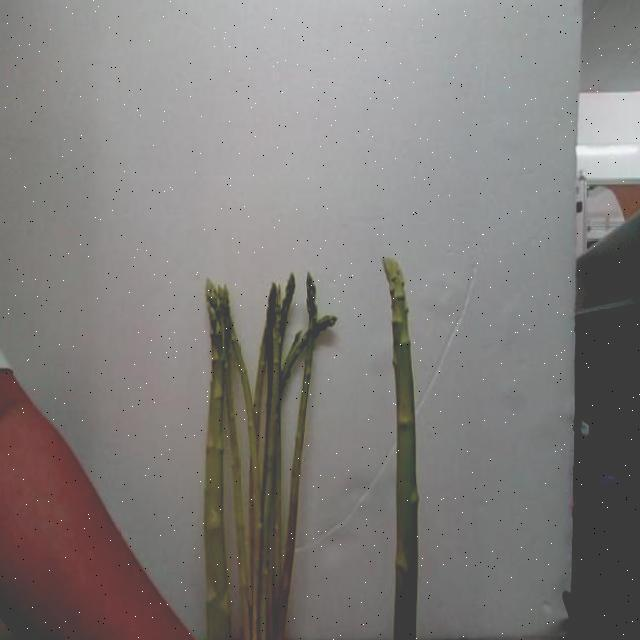aspargus: (383, 258, 419, 640)
